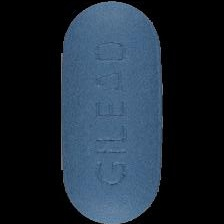54868-5141: (0, 0, 224, 224)
